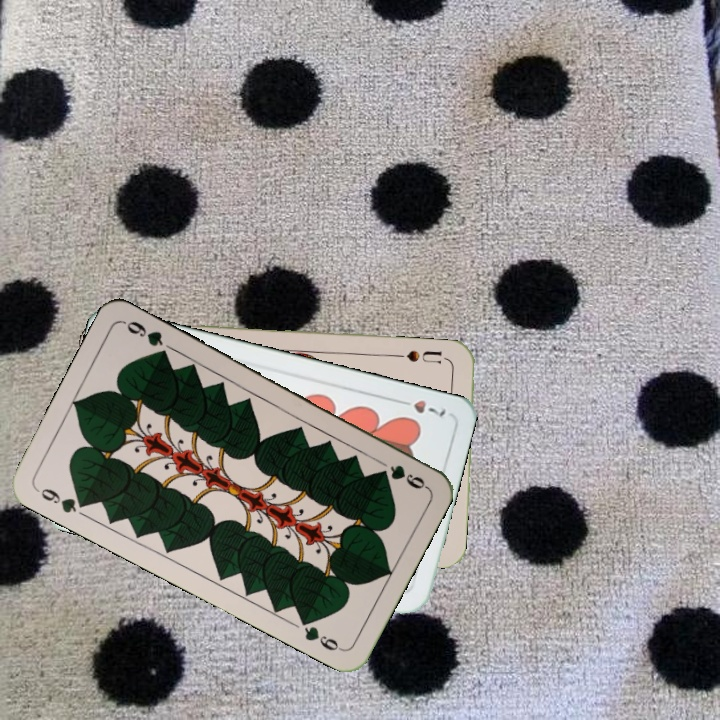G9: (375, 456, 429, 492), (32, 484, 92, 516)
H7: (392, 395, 448, 419)
SU: (403, 346, 444, 366)
